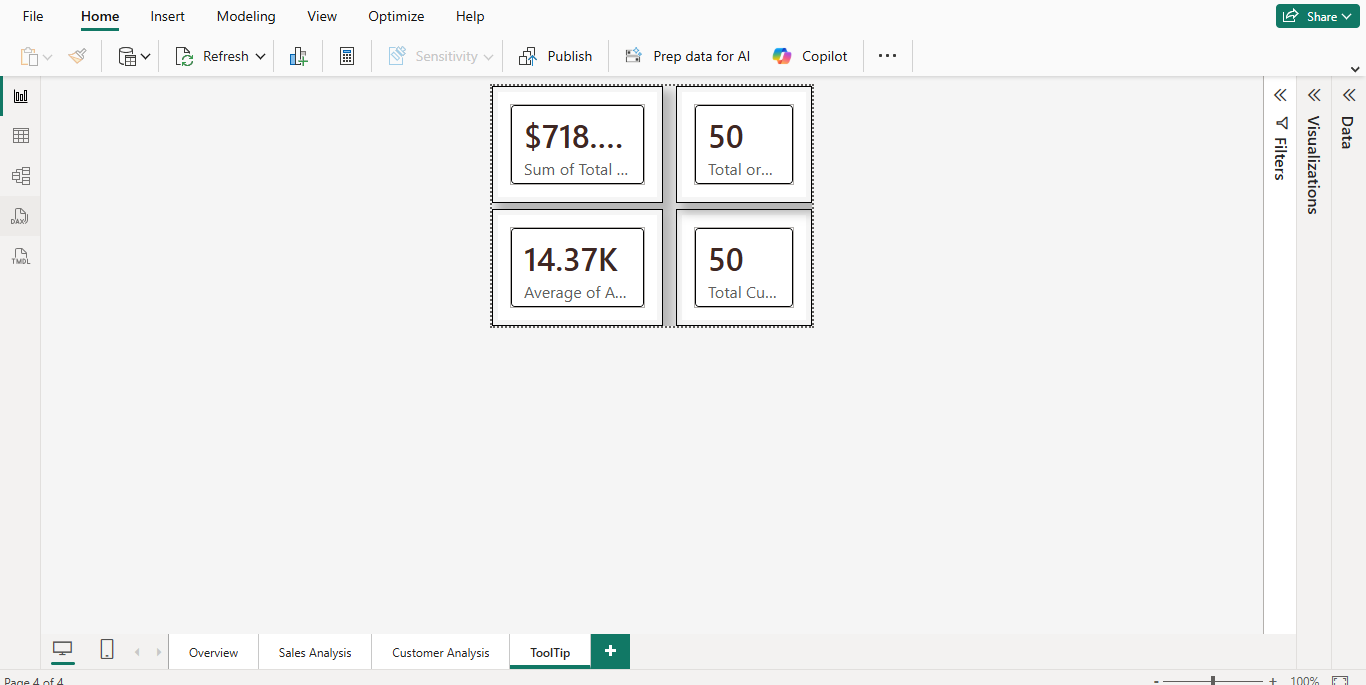

Layout of this report page (visuals, bound fields, positions):
{"tool":"powerbi","page":{"name":"ToolTip","canvas":[320,240],"ordinal":3},"visuals":[{"type":"cardVisual","fields":{"Data":["Table1.Total Customers"]},"box":[647.1,246.8,231,111.1],"z":0},{"type":"cardVisual","fields":{"Data":["Avg(Table1.Avg Order Value)"]},"box":[897.4,248.6,253.9,111.1],"z":1000},{"type":"cardVisual","fields":{"Data":["Table1.Total Customers"]},"box":[184,123,136,117],"z":2000},{"type":"cardVisual","fields":{"Data":["Sum(Table1.Total Revenue)"]},"box":[0,0,171,117],"z":3000},{"type":"cardVisual","fields":{"Data":["Table1.Total order"]},"box":[184,0,136,117],"z":4000},{"type":"cardVisual","fields":{"Data":["Avg(Table1.Avg Order Value)"]},"box":[0,123,171,117],"z":5000}]}

Visuals, with their boxes on the page's 320x240 design canvas (x1, y1, x2, y2). These are canvas units, not pixel positions in the 1366x685 screenshot, which may show the page scaled, cropped or inside an application window:
cardVisual - Table1.Total Customers: bbox=(647, 247, 878, 358)
cardVisual - Avg(Table1.Avg Order Value): bbox=(897, 249, 1151, 360)
cardVisual - Table1.Total Customers: bbox=(184, 123, 320, 240)
cardVisual - Sum(Table1.Total Revenue): bbox=(0, 0, 171, 117)
cardVisual - Table1.Total order: bbox=(184, 0, 320, 117)
cardVisual - Avg(Table1.Avg Order Value): bbox=(0, 123, 171, 240)
